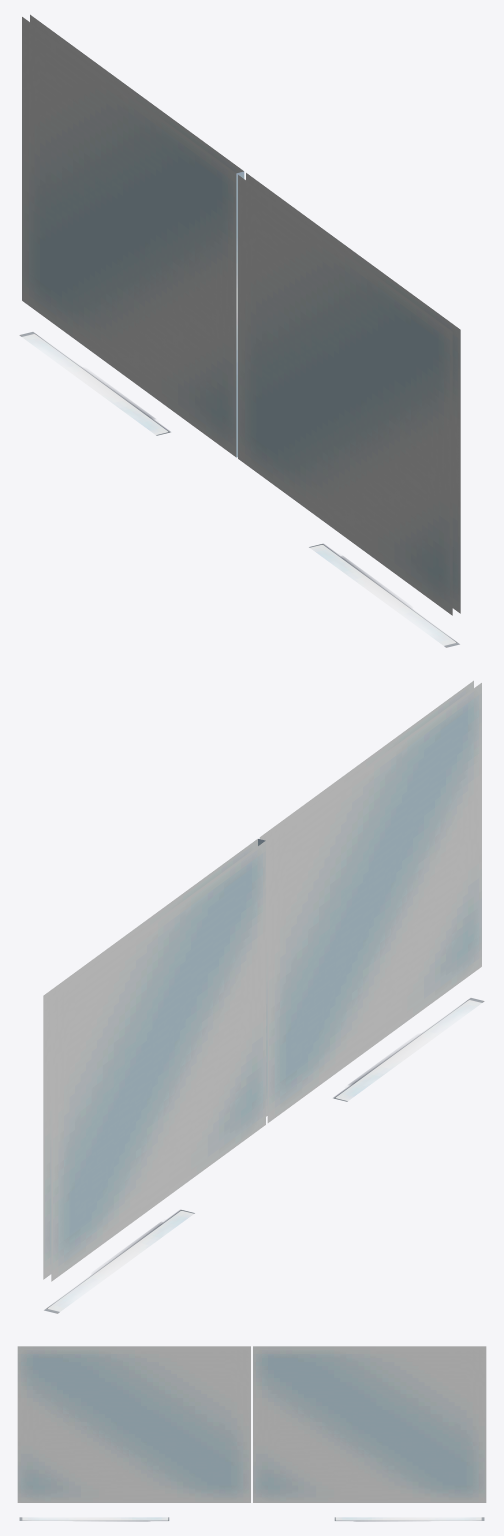
The model's file is my_millenniumlounge_01_fence_02.glb.
3 views of the same model, one above another, from view 1: azimuth 30°, elevation 25°; view 2: azimuth 150°, elevation 25°; view 3: azimuth 270°, elevation 25° (orthographic). The views are drawn at different scales.
Visible parts, largest first — view 1: my_millenniumlounge_01_fence_02_a, my_millenniumlounge_01_fence_02; view 2: my_millenniumlounge_01_fence_02_a, my_millenniumlounge_01_fence_02; view 3: my_millenniumlounge_01_fence_02_a, my_millenniumlounge_01_fence_02.
Part boxes in pixels (x1,y1,x2,y2): my_millenniumlounge_01_fence_02_a: (22,14,460,615); my_millenniumlounge_01_fence_02: (19,332,459,647); my_millenniumlounge_01_fence_02_a: (43,680,481,1281); my_millenniumlounge_01_fence_02: (44,998,484,1313); my_millenniumlounge_01_fence_02_a: (17,1346,486,1502); my_millenniumlounge_01_fence_02: (19,1517,484,1521).
Bounding box in the file's own units: 0.000773 × 0.00479 × 0.012.
3 materials, 3 textured.
